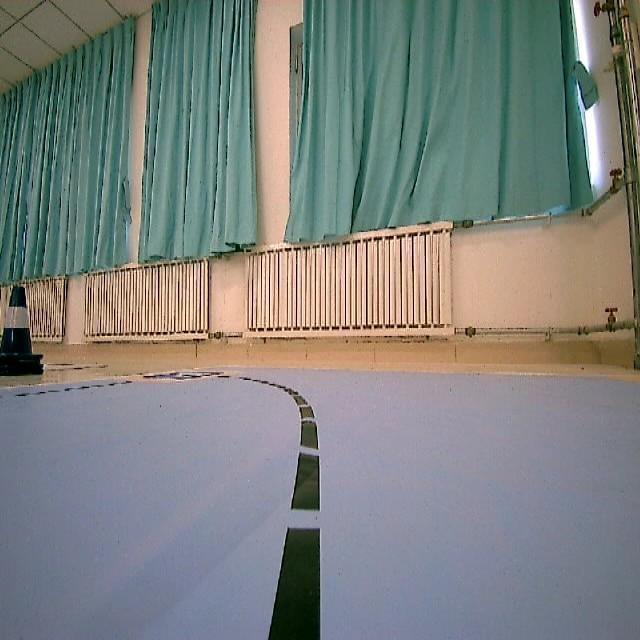obstacle: (0, 284, 42, 380)
